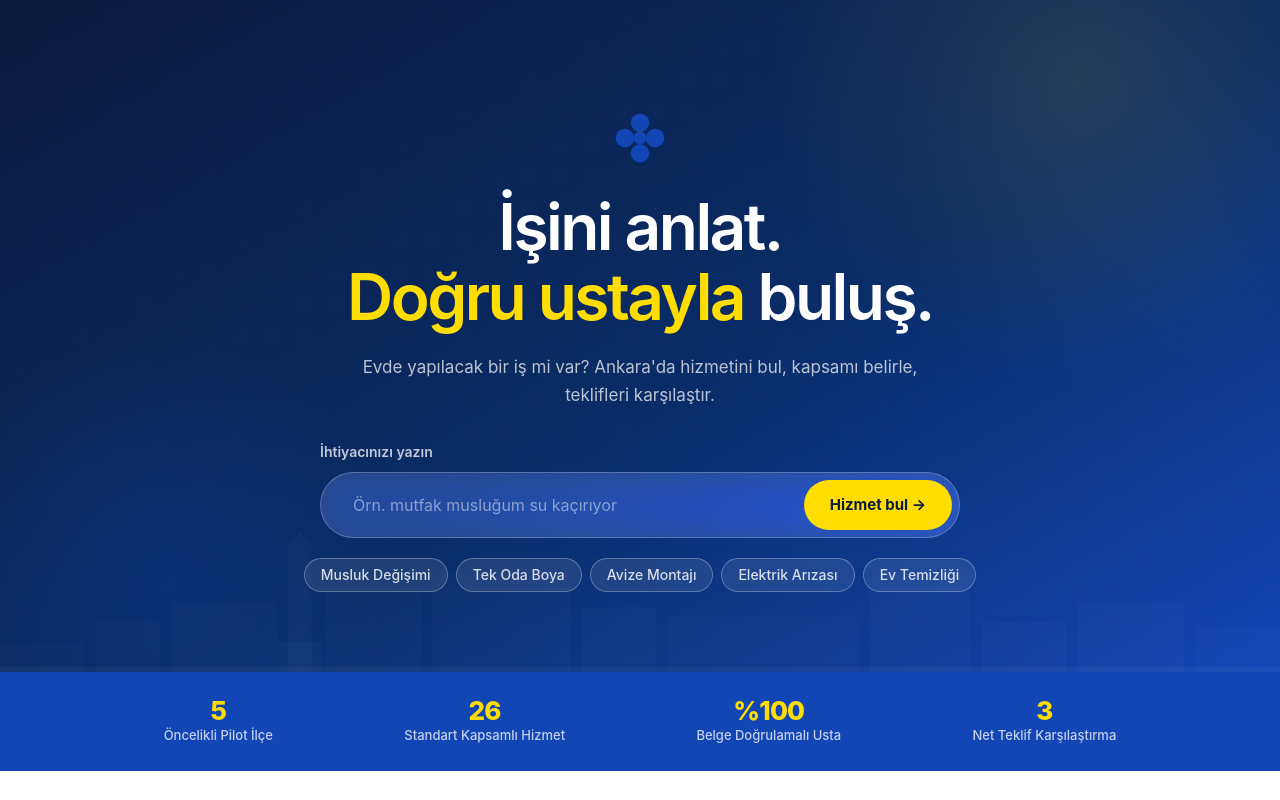
Test: keeps an unmatched search recoverable without selecting a service on the customer behalf
The image size is (1280, 800).
Type "zzzzzzzz" into the field labelled "İhtiyacınızı yazın" at (569, 505), box [341,480,798,530]
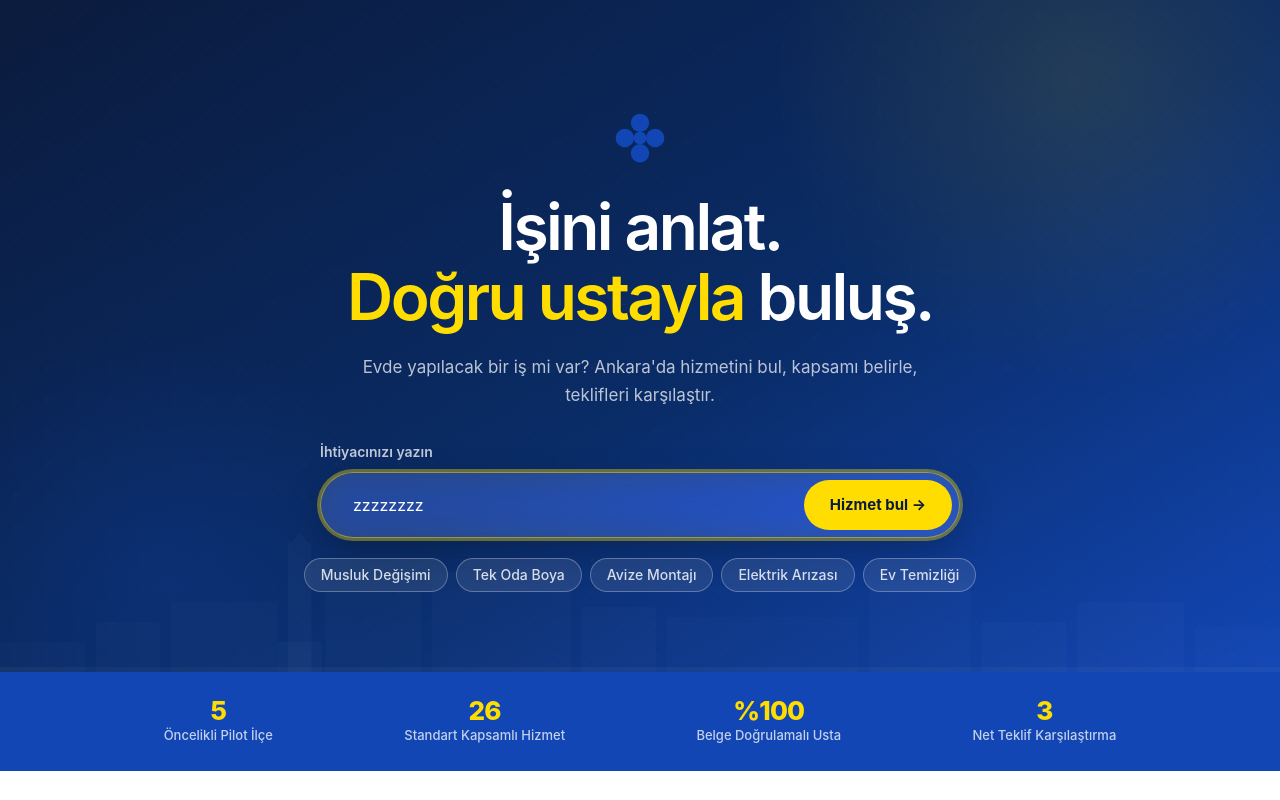
Click the button "Hizmet bul →" at (878, 505), box [804,480,952,530]
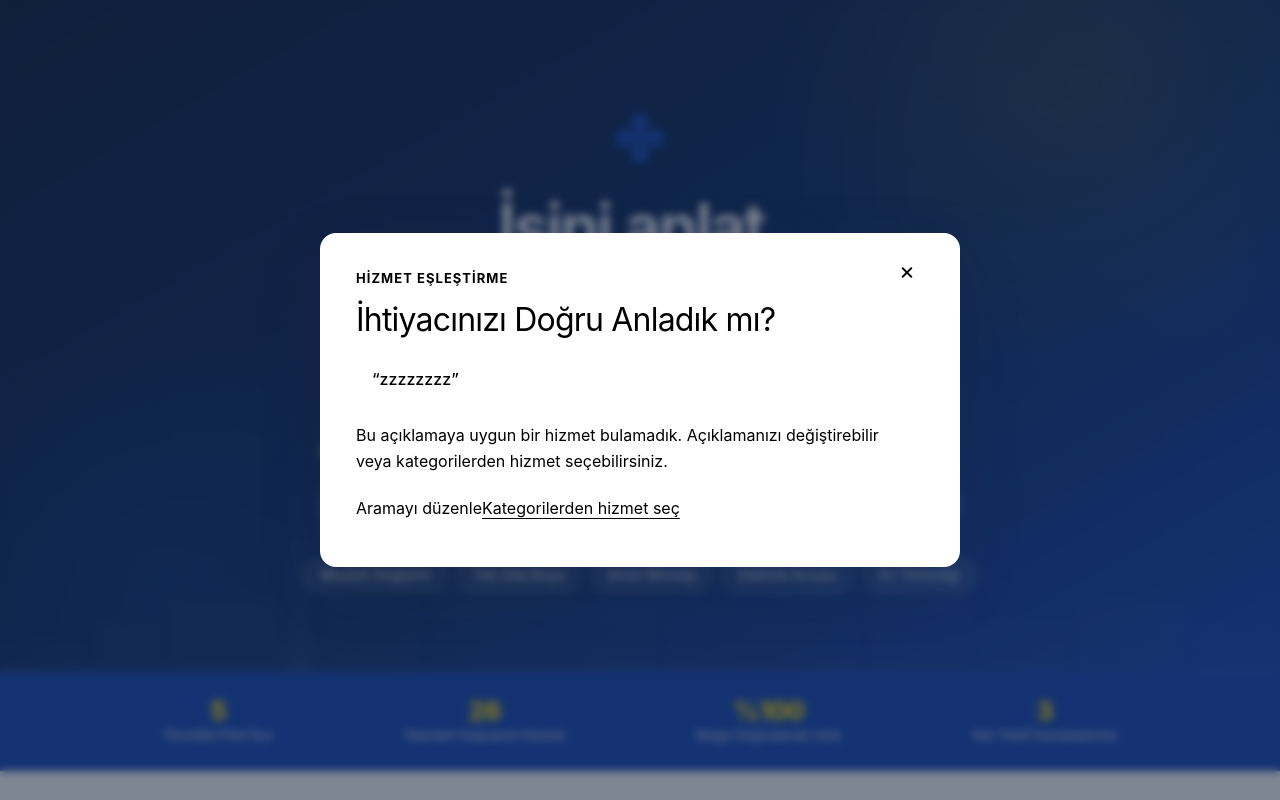
Click the button "Aramayı düzenle" at (419, 508), box [356,496,482,521]
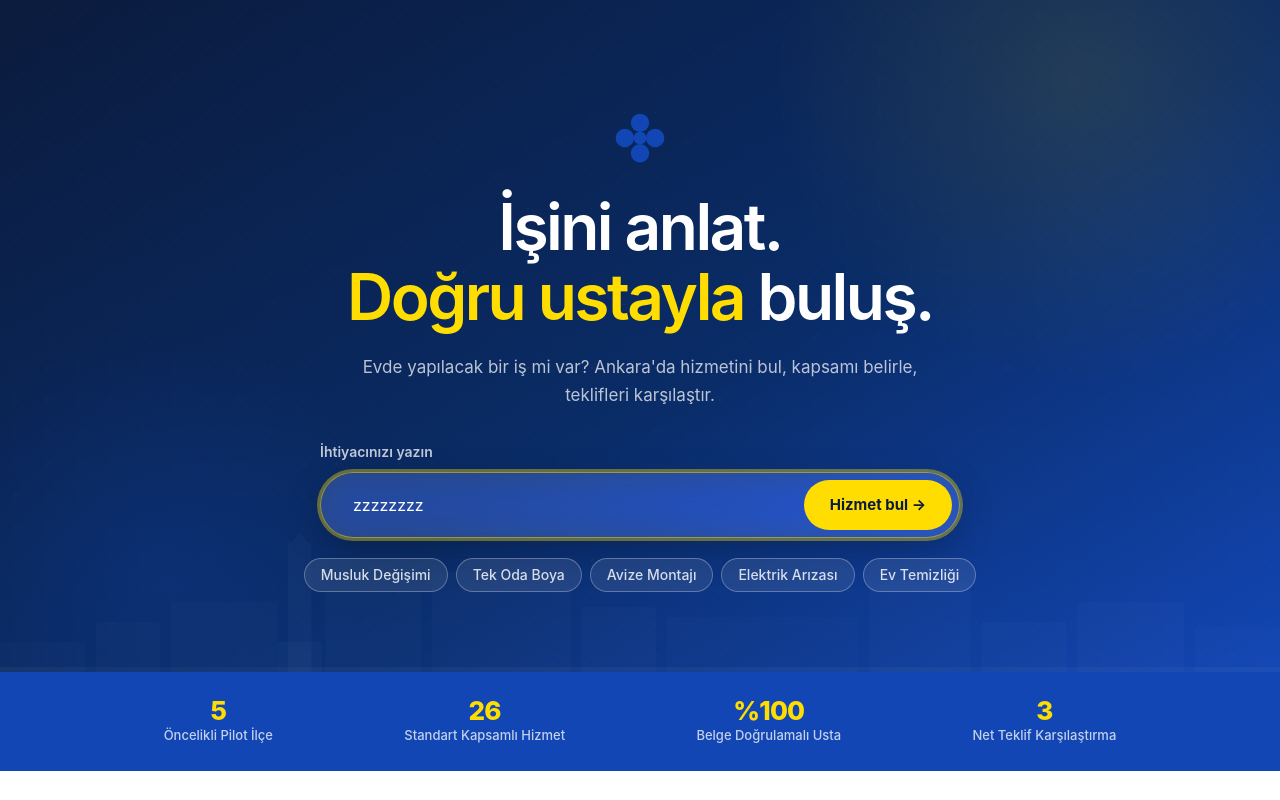
Check: the dialog is gone
